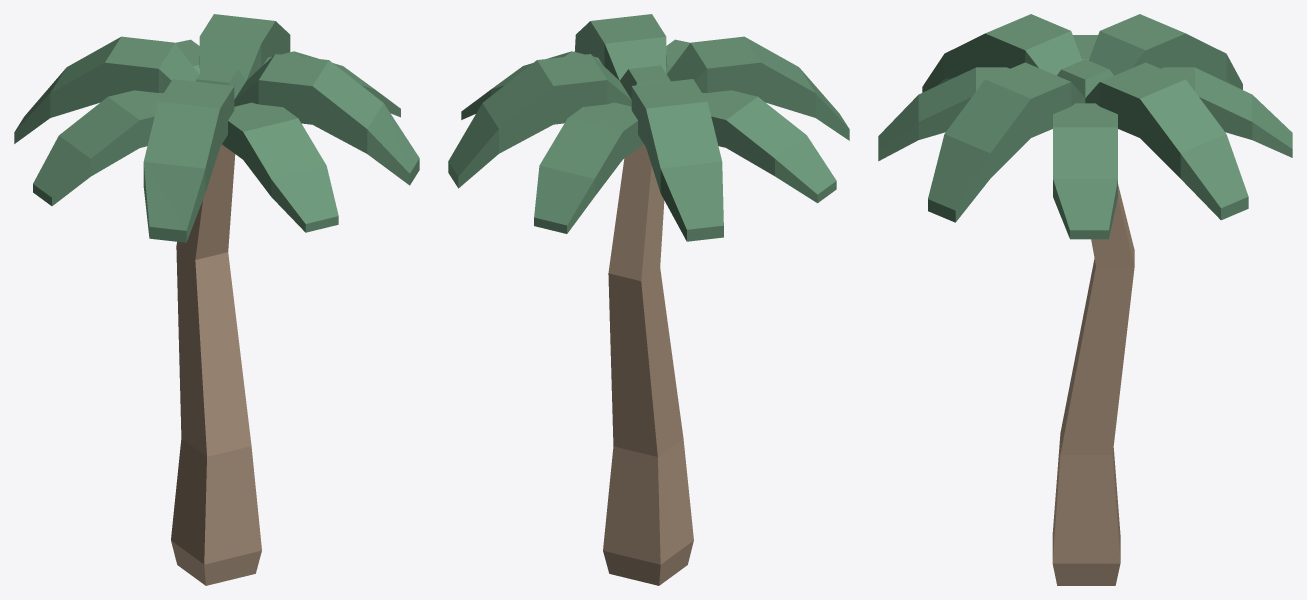
The model's file is palm_tree.glb.
The picture shows the model from 3 angles, left to right: view 1: azimuth 30°, elevation 25°; view 2: azimuth 150°, elevation 25°; view 3: azimuth 270°, elevation 25°; orthographic projection.
Parts seen in each view (by area): view 1: geometry_0; view 2: geometry_0; view 3: geometry_0.
Boxes of the visible parts, x1,y1,x2,y2 form: geometry_0: (14, 14, 419, 585); geometry_0: (448, 14, 849, 585); geometry_0: (878, 14, 1292, 585).
Bounding box in the file's own units: 4 × 5.5 × 4.
